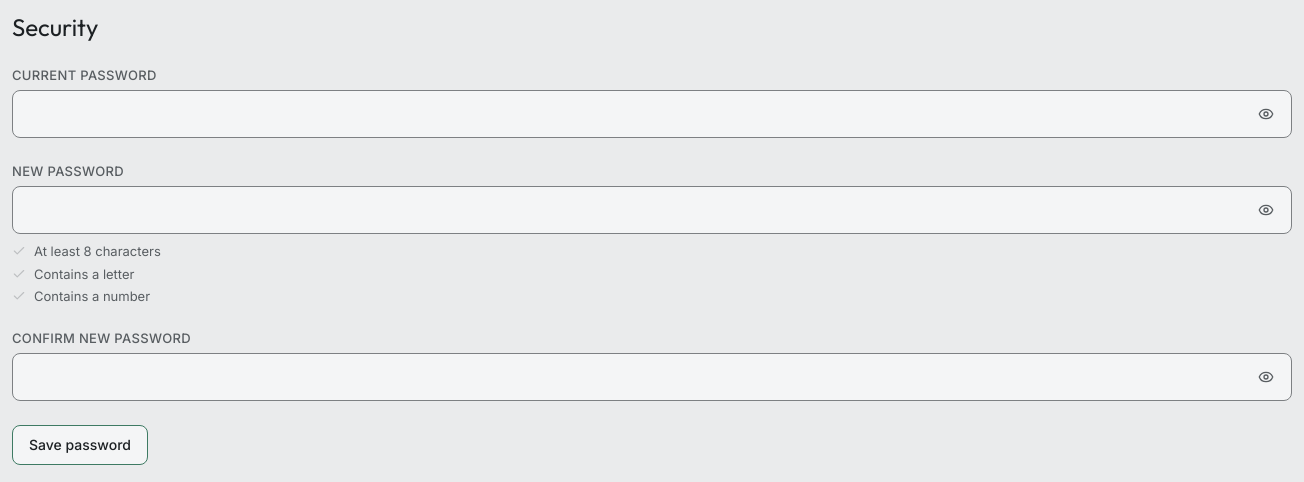
Test: SecuritySection › blocks submission when confirm does not match new
Type "anything" into the password field labelled "Current password".
click(652, 114); type("anything")  # box [12,90,1292,138]
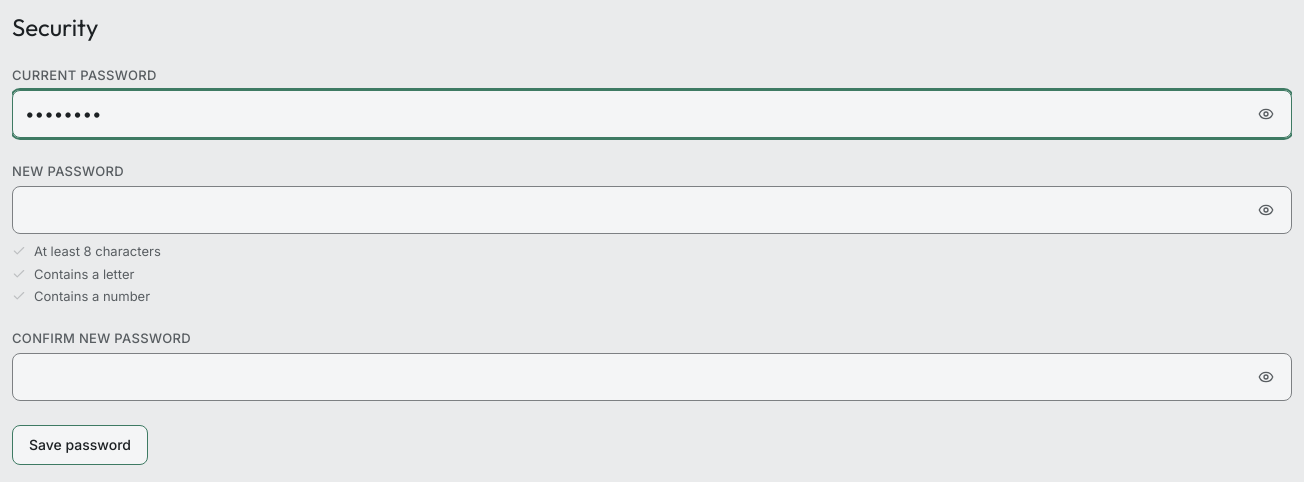
Type "BetterPass123" into the password field labelled "New password".
click(652, 210); type("BetterPass123")  # box [12,186,1292,234]
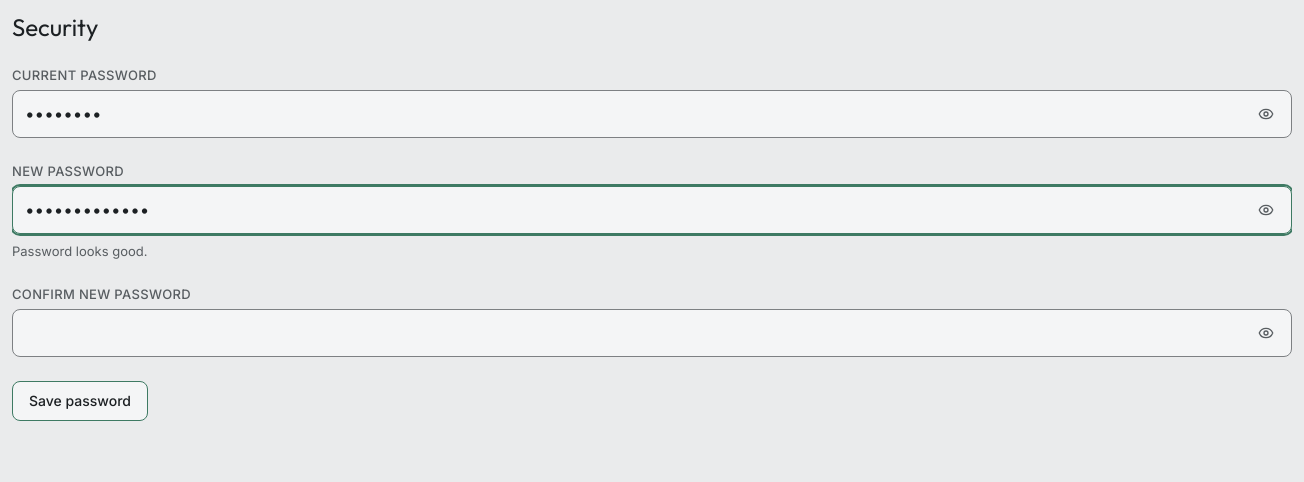
Type "Mismatch123" into the password field labelled "Confirm new password".
click(652, 333); type("Mismatch123")  # box [12,309,1292,357]
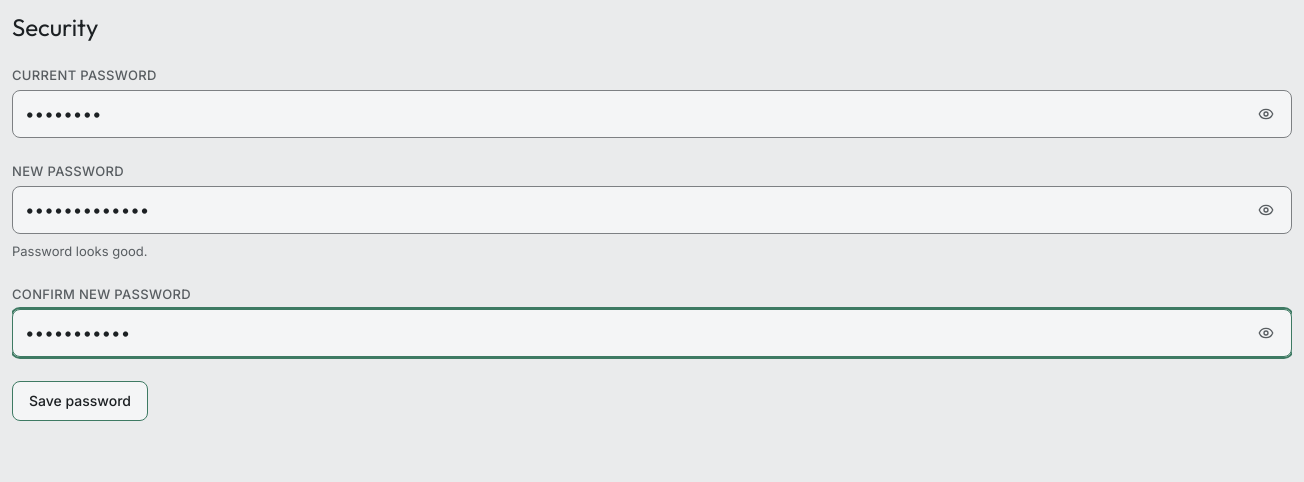
Click the button "Save password".
click(80, 401)  # box [12,381,148,421]
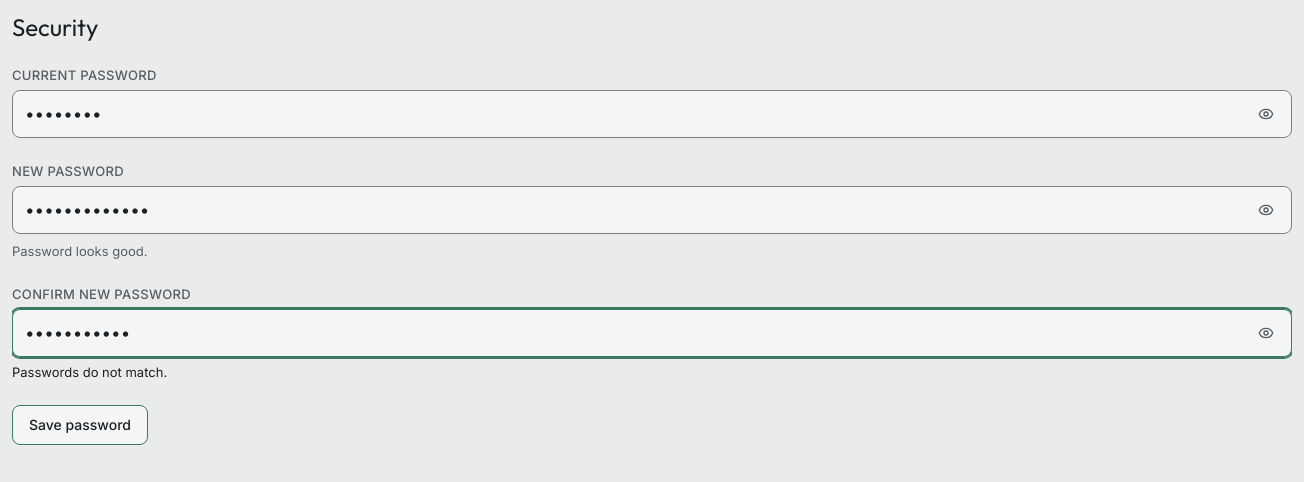
Expected: the text "Passwords do not match." is shown, [12,364,167,380]
